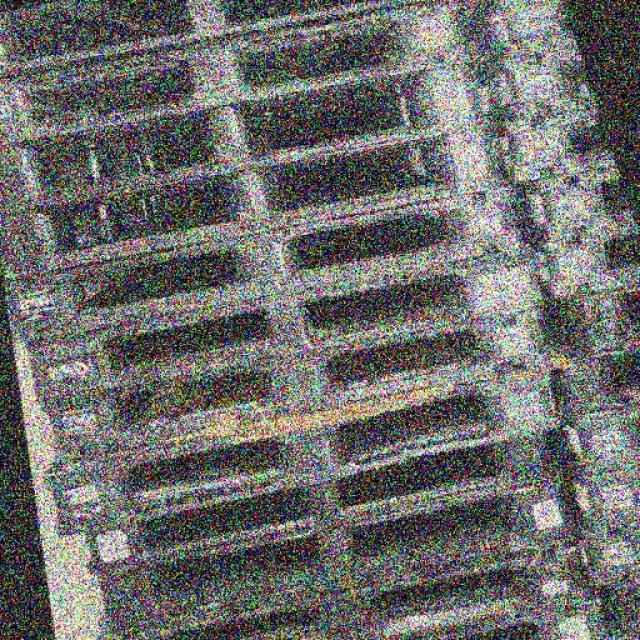igps: (39, 362, 572, 544), (0, 176, 542, 349), (0, 109, 520, 289), (0, 42, 495, 226), (35, 299, 556, 471), (17, 245, 550, 412), (87, 468, 588, 640), (76, 415, 567, 584), (0, 0, 485, 157), (91, 528, 599, 640), (0, 0, 440, 90), (463, 22, 618, 132), (478, 84, 626, 199), (371, 577, 617, 640), (495, 156, 639, 255), (521, 196, 640, 298), (539, 339, 639, 432), (534, 277, 638, 363), (538, 399, 638, 484), (450, 0, 580, 59), (554, 453, 638, 539), (568, 514, 638, 593)
